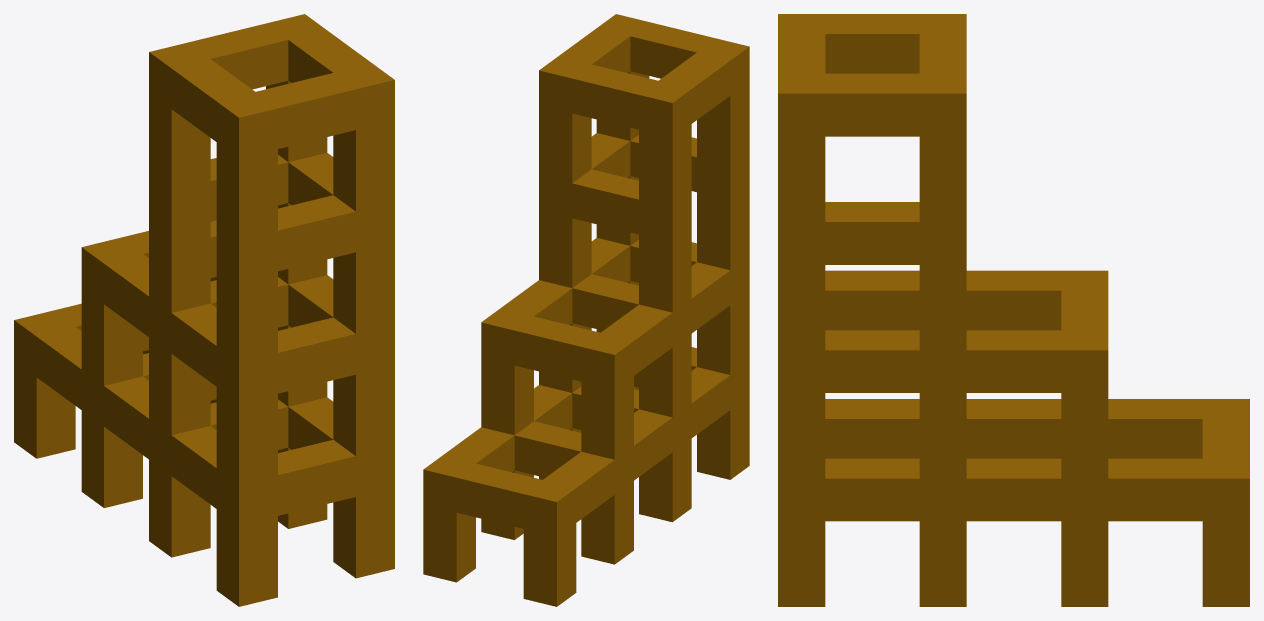
File: newbase-2.obj
The picture shows the model from 3 angles, left to right: view 1: azimuth 30°, elevation 25°; view 2: azimuth 150°, elevation 25°; view 3: azimuth 270°, elevation 25°; orthographic projection. The views are drawn at different scales.
Size of the model in its own units: 0.4 by 1.2 by 1.
Materials: 1 (1 with a texture image).
